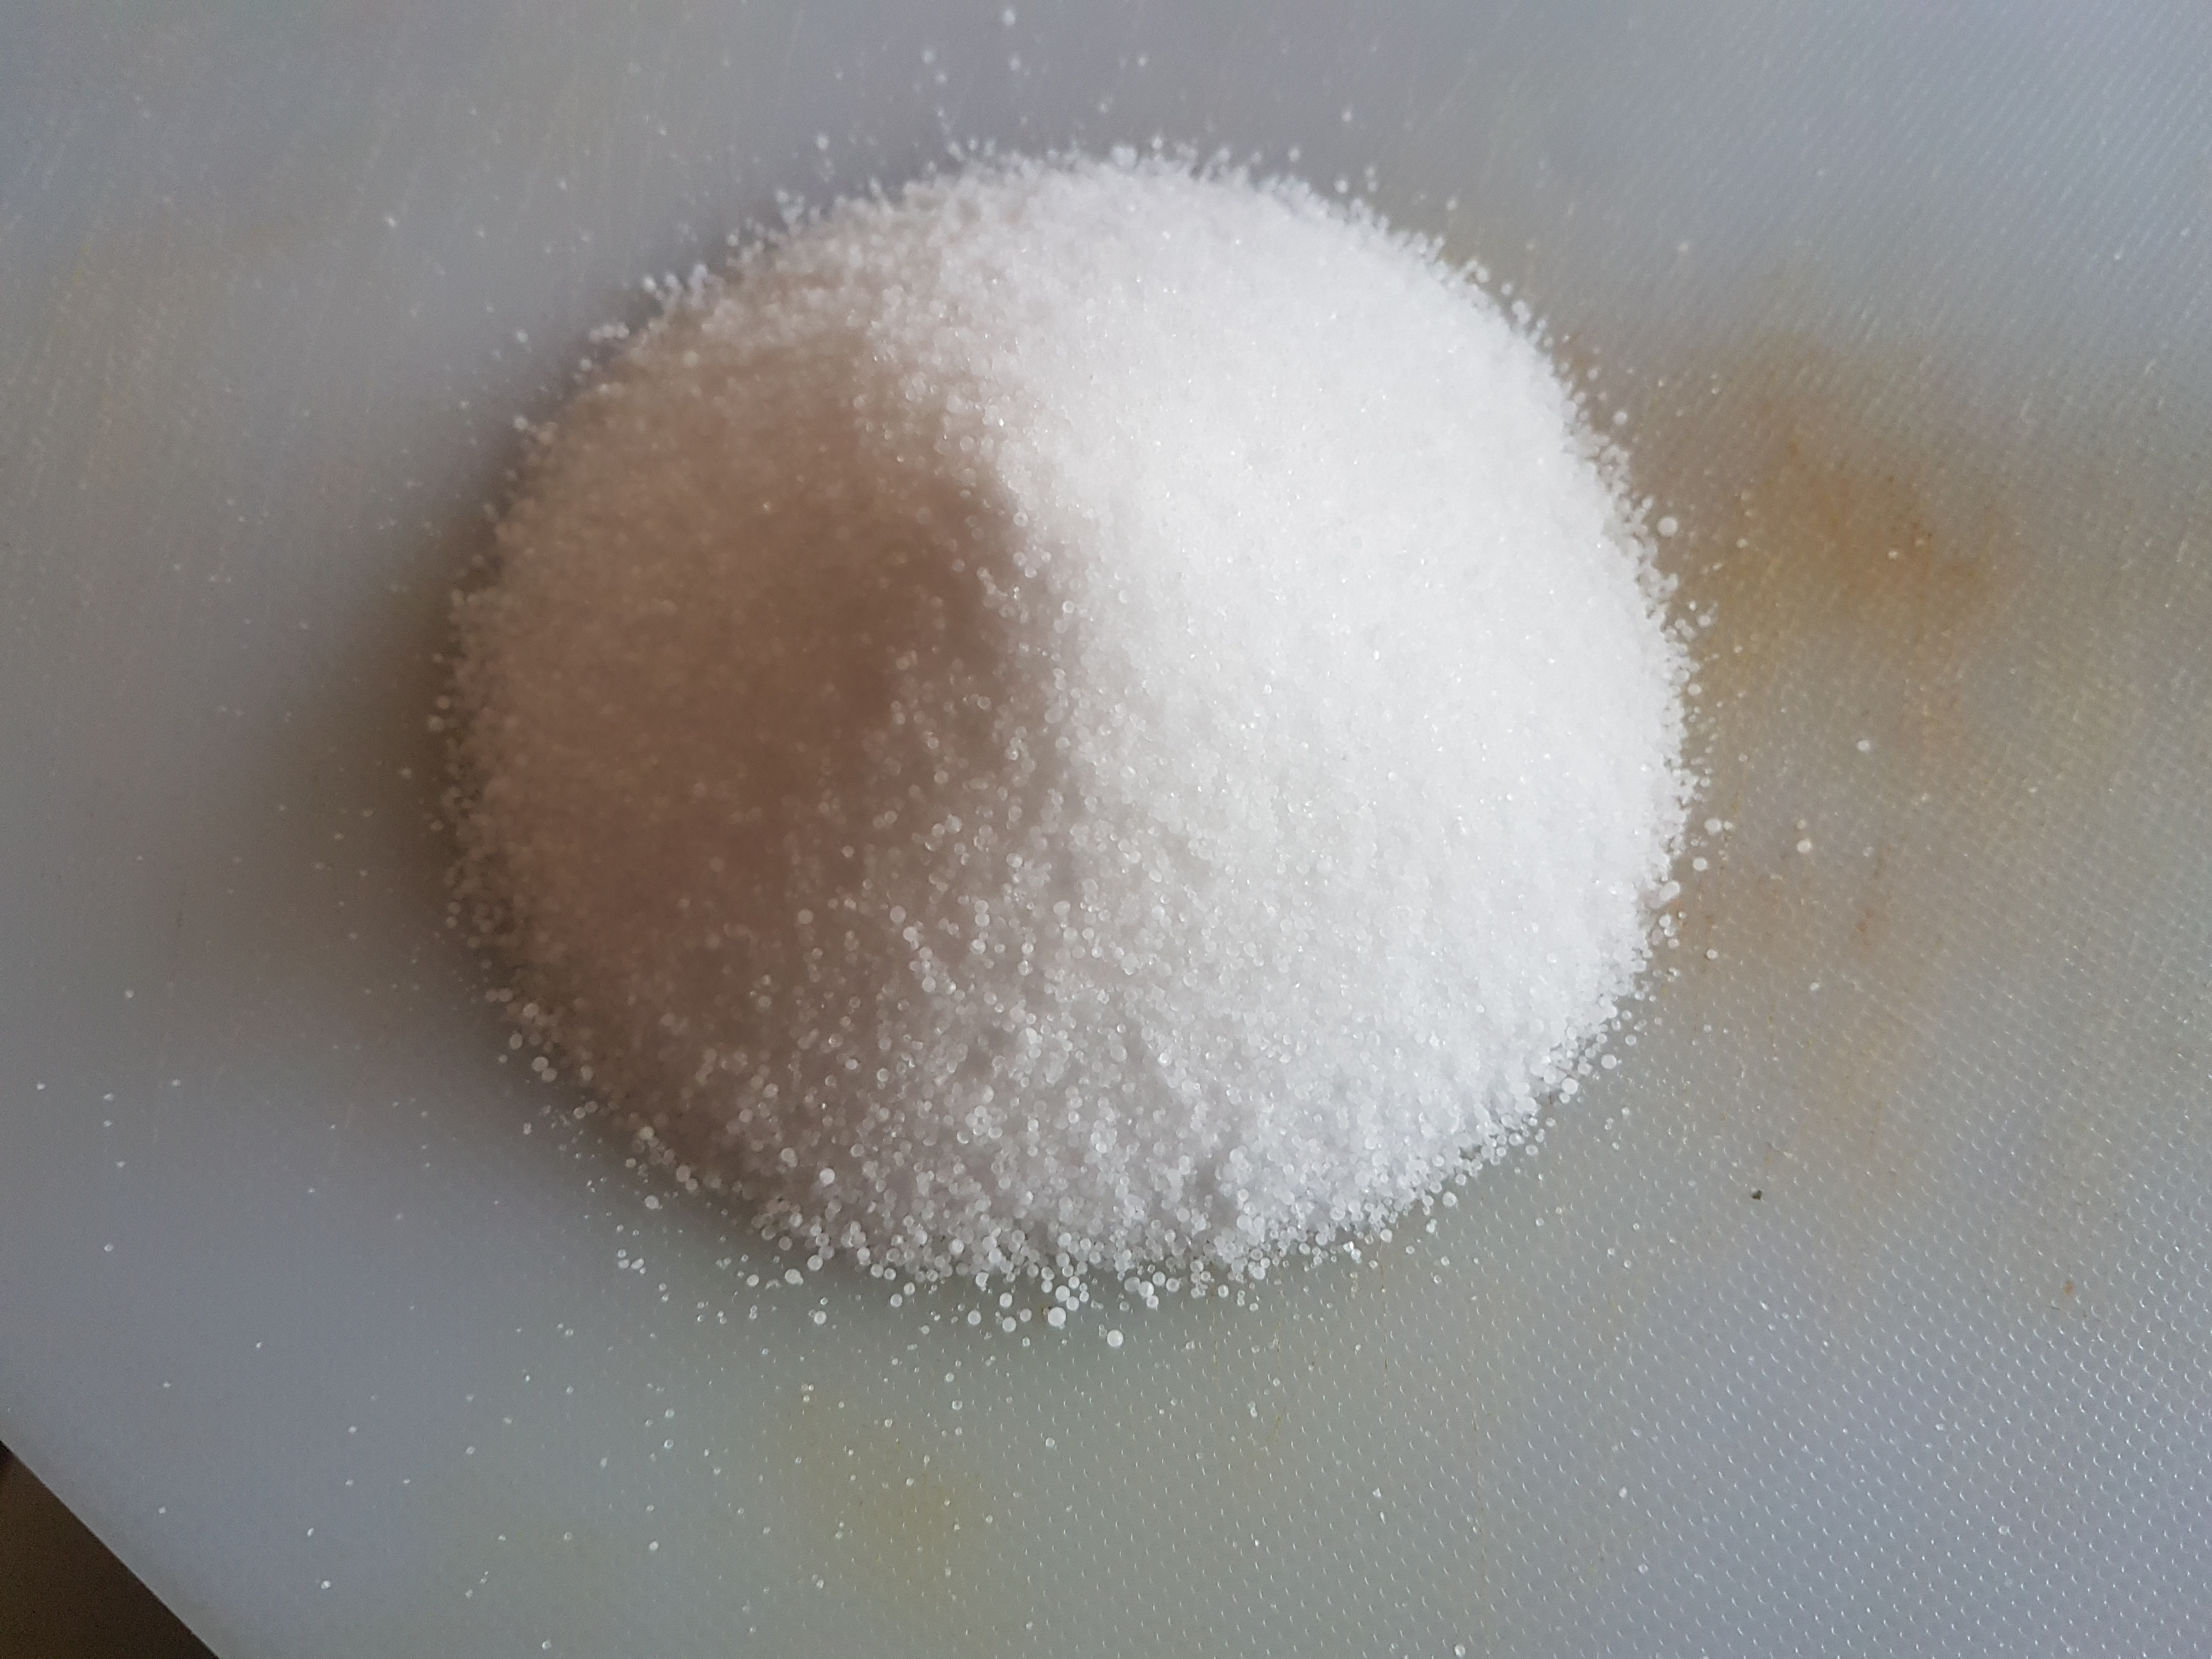Salt: (258, 145, 2057, 1446)
